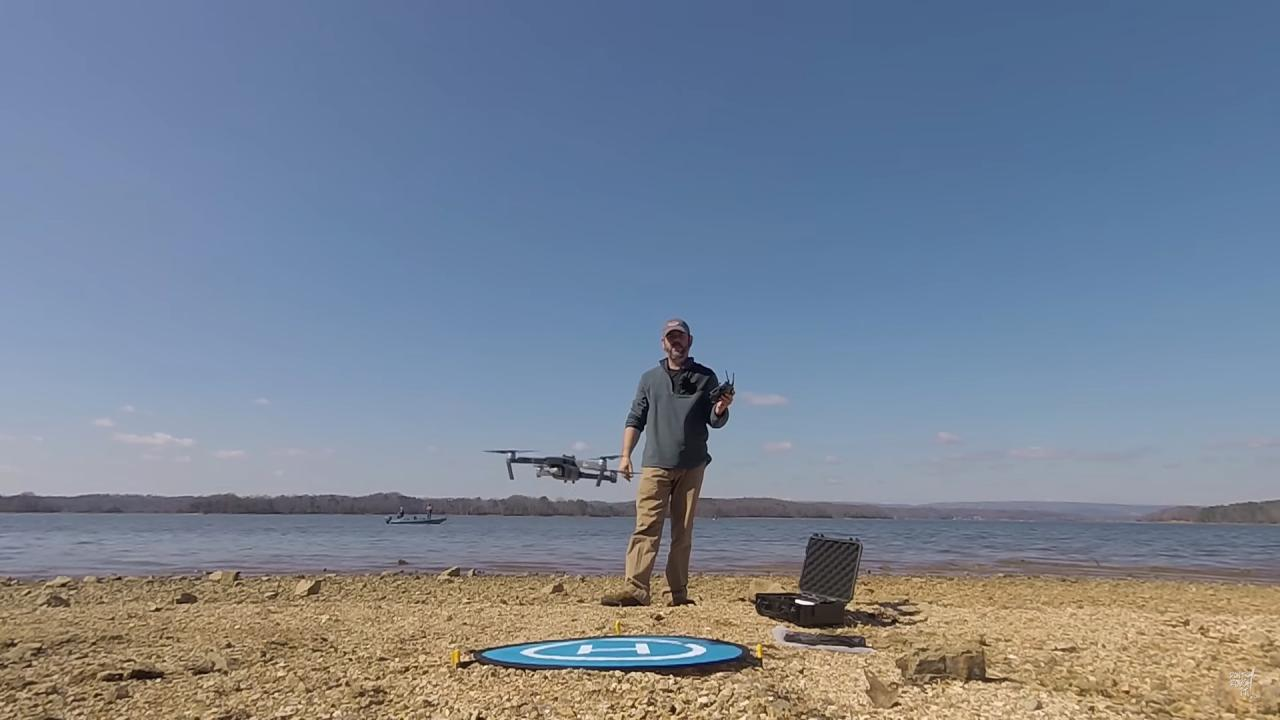Drone: (476, 440, 636, 498)
